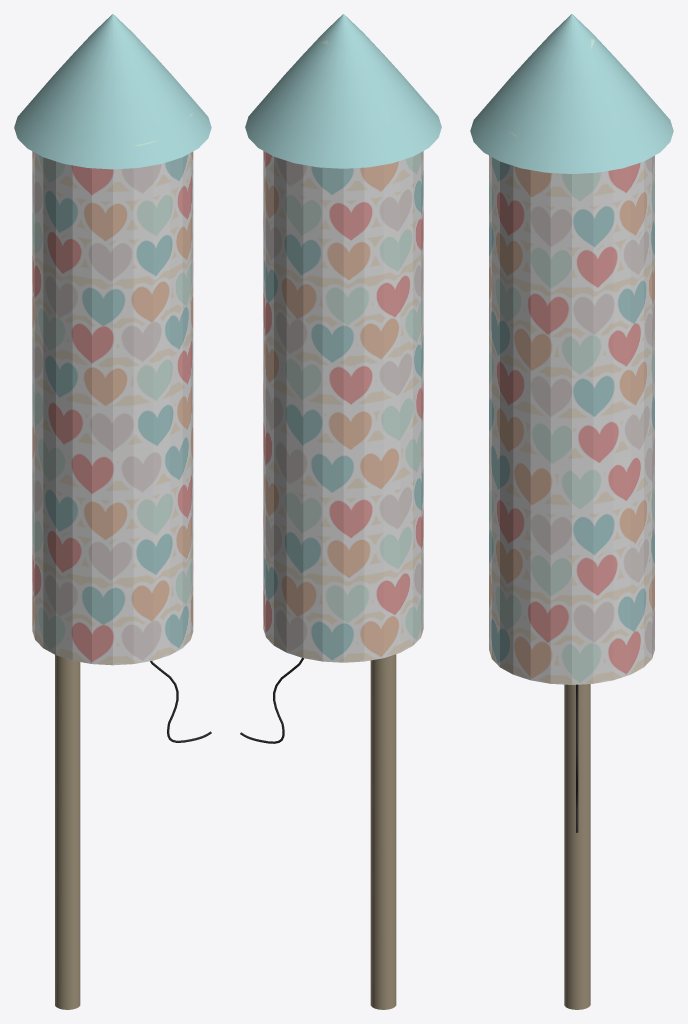
Rendered from firecracker_3.fbx.
The picture shows the model from 3 angles, left to right: view 1: azimuth 30°, elevation 25°; view 2: azimuth 150°, elevation 25°; view 3: azimuth 270°, elevation 25°; orthographic projection. The views are drawn at different scales.
Parts seen in each view (by area): view 1: Cone001; view 2: Cone001; view 3: Cone001.
Part boxes in pixels (left/top/right/bottom): Cone001: left=14, top=14, right=211, bottom=1009; Cone001: left=240, top=14, right=441, bottom=1009; Cone001: left=470, top=14, right=673, bottom=1009.
Bounding box in the file's own units: 56.52 × 284 × 51.81.
